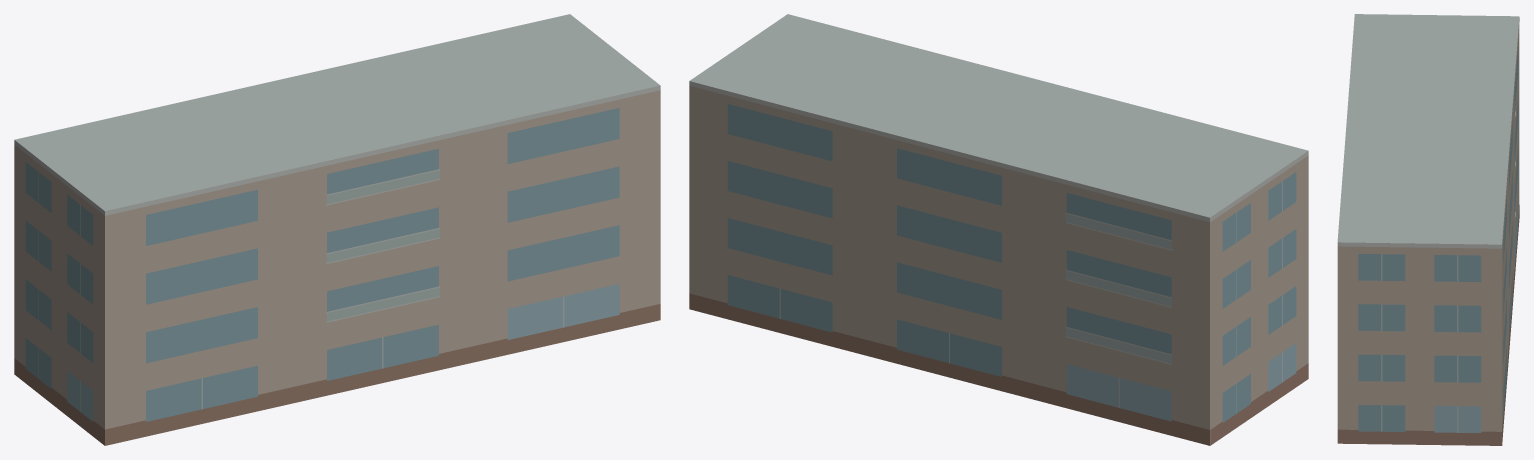
File: residential-6bb179a3-3b18-4ec9-b294-1a0066ec1c45.glb
The picture shows the model from 3 angles, left to right: view 1: azimuth 30°, elevation 25°; view 2: azimuth 150°, elevation 25°; view 3: azimuth 270°, elevation 25°; orthographic projection. The views are drawn at different scales.
Parts seen in each view (by area): view 1: residential-6bb179a3-3b18-4ec9-b294-1a0066ec1c45.tmp; view 2: residential-6bb179a3-3b18-4ec9-b294-1a0066ec1c45.tmp; view 3: residential-6bb179a3-3b18-4ec9-b294-1a0066ec1c45.tmp.
Part boxes in pixels (bbox=[...]): residential-6bb179a3-3b18-4ec9-b294-1a0066ec1c45.tmp: bbox=[14, 14, 660, 445]; residential-6bb179a3-3b18-4ec9-b294-1a0066ec1c45.tmp: bbox=[689, 14, 1308, 445]; residential-6bb179a3-3b18-4ec9-b294-1a0066ec1c45.tmp: bbox=[1337, 14, 1519, 445].
Size of the model in its own units: 29.99 by 12.2 by 10.01.
